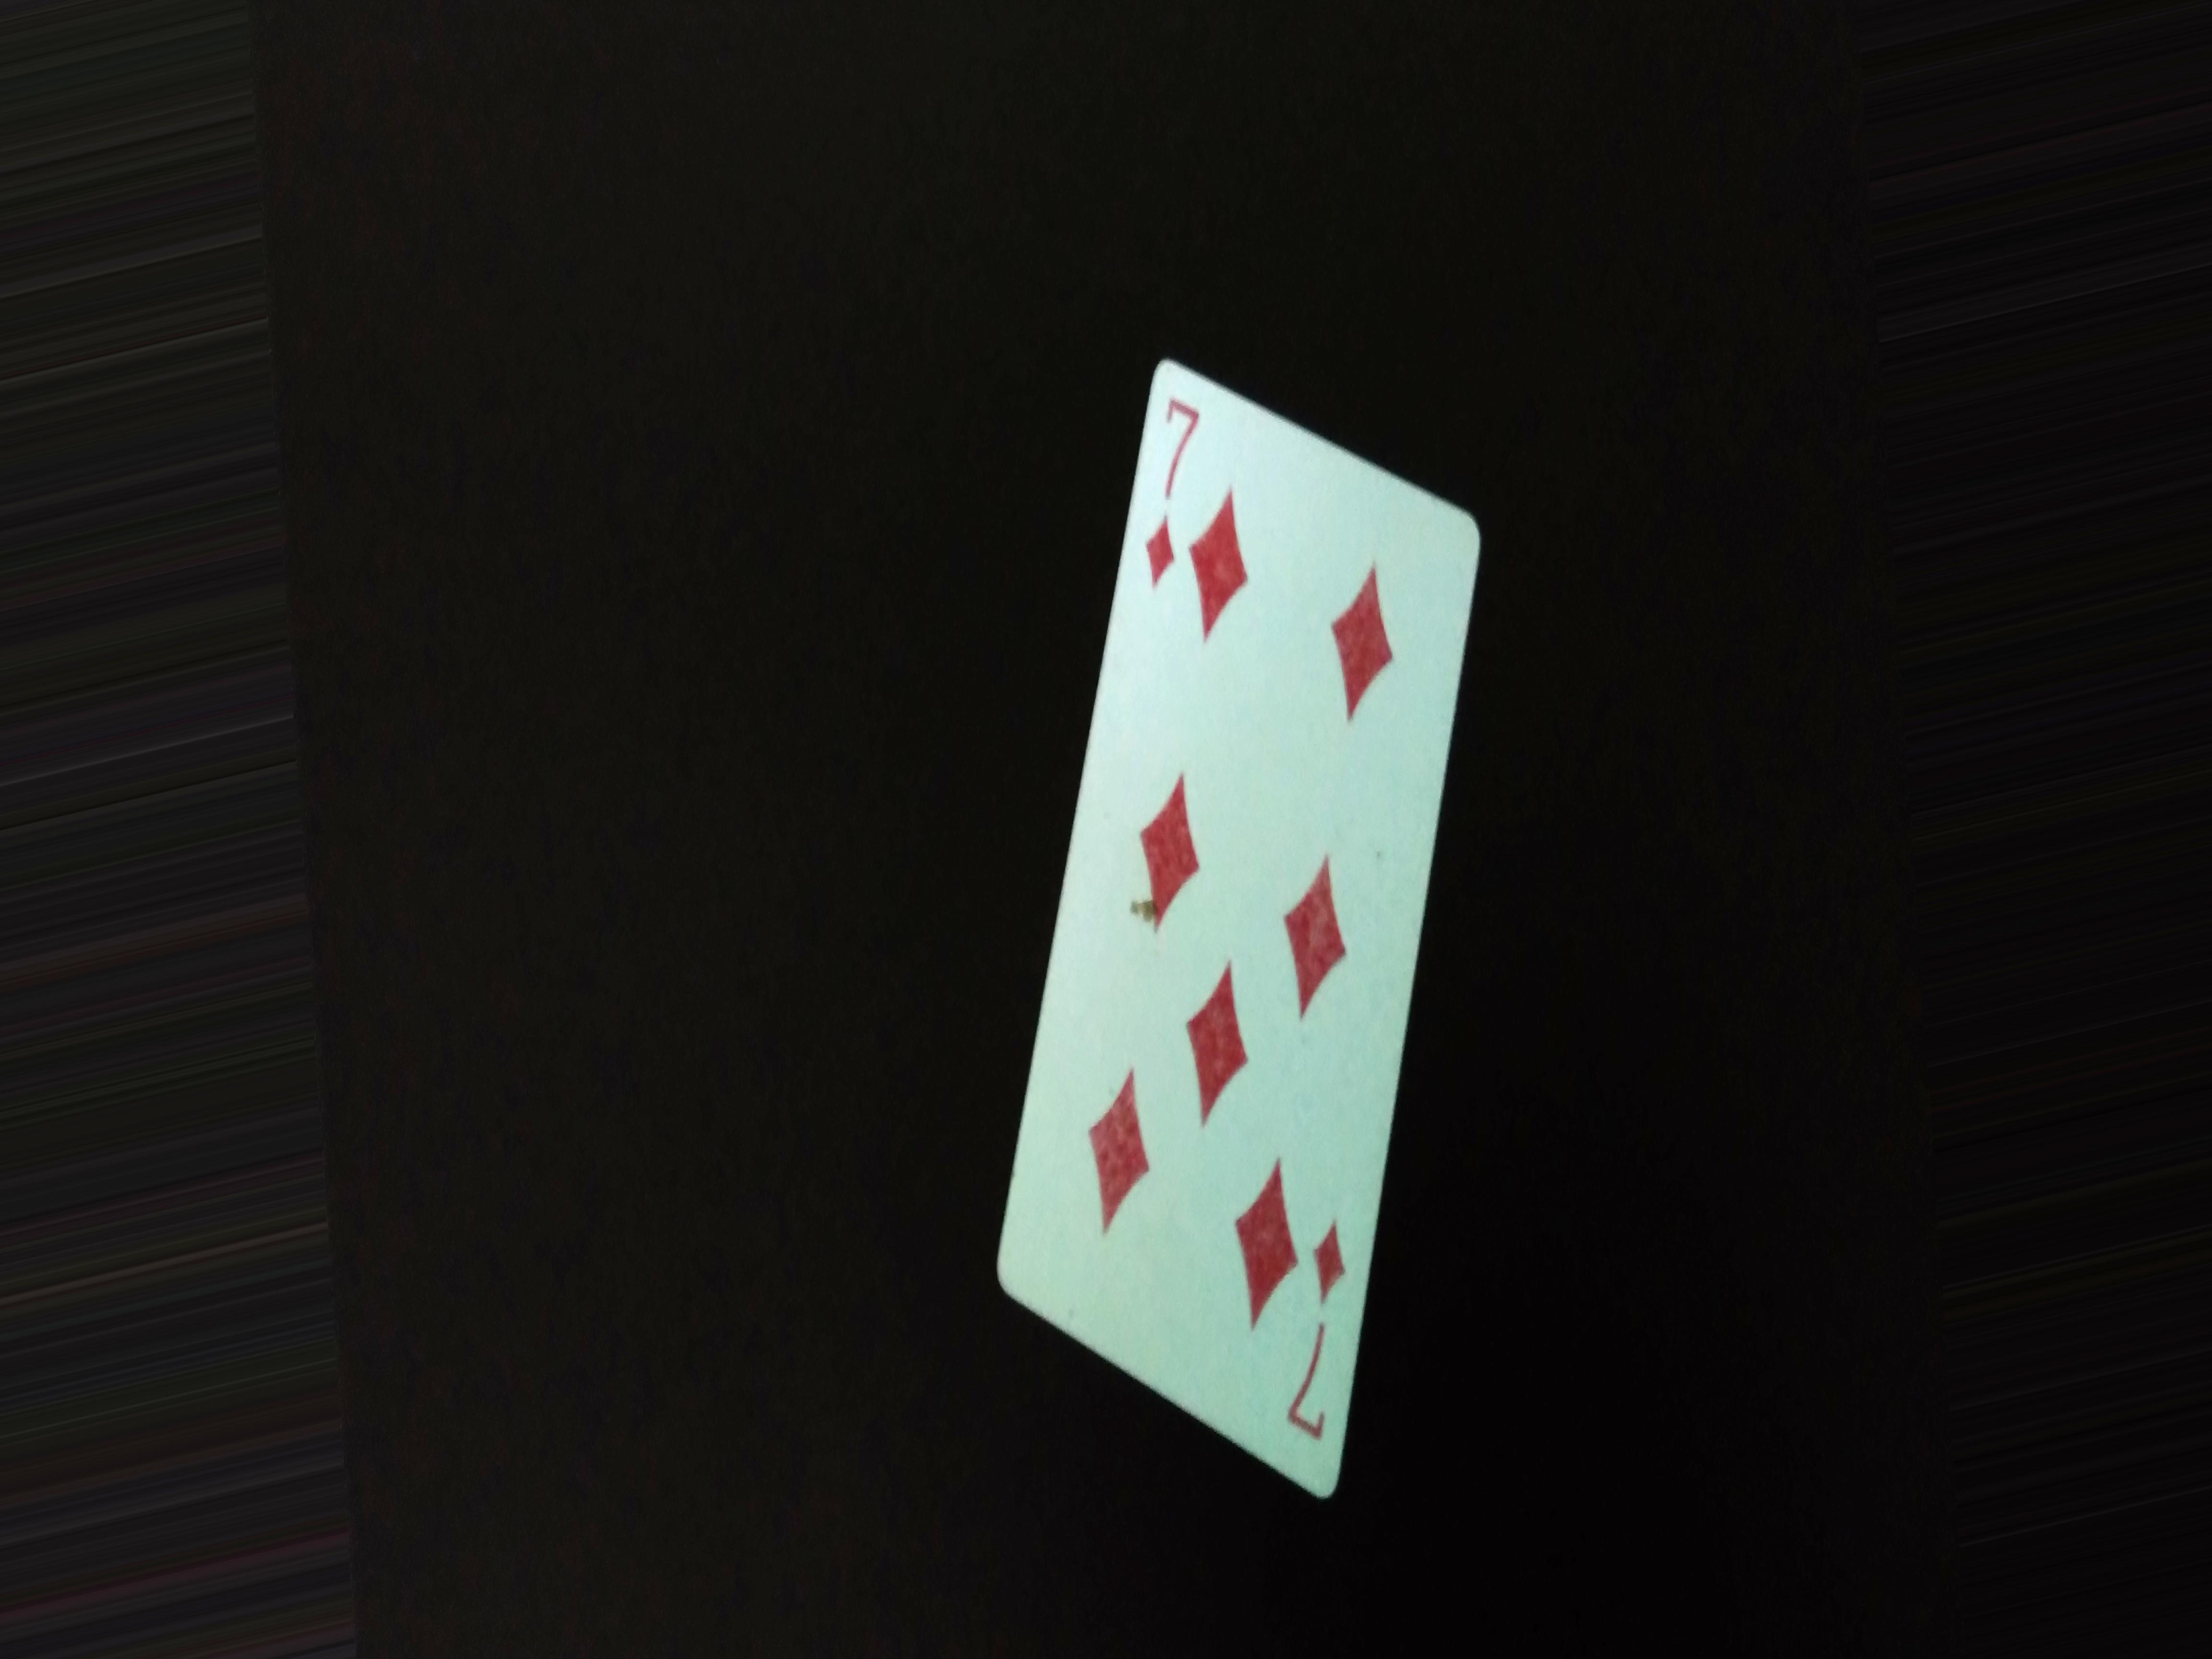7D: (1129, 389, 1219, 612)
